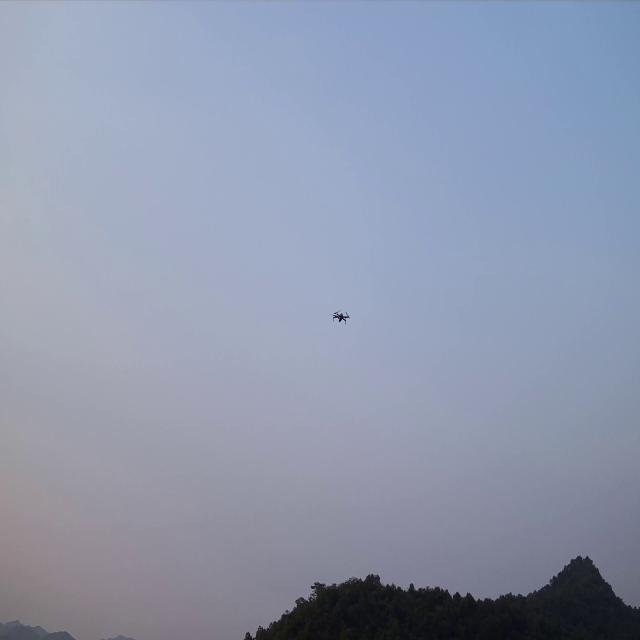UAV: (329, 308, 351, 326)
